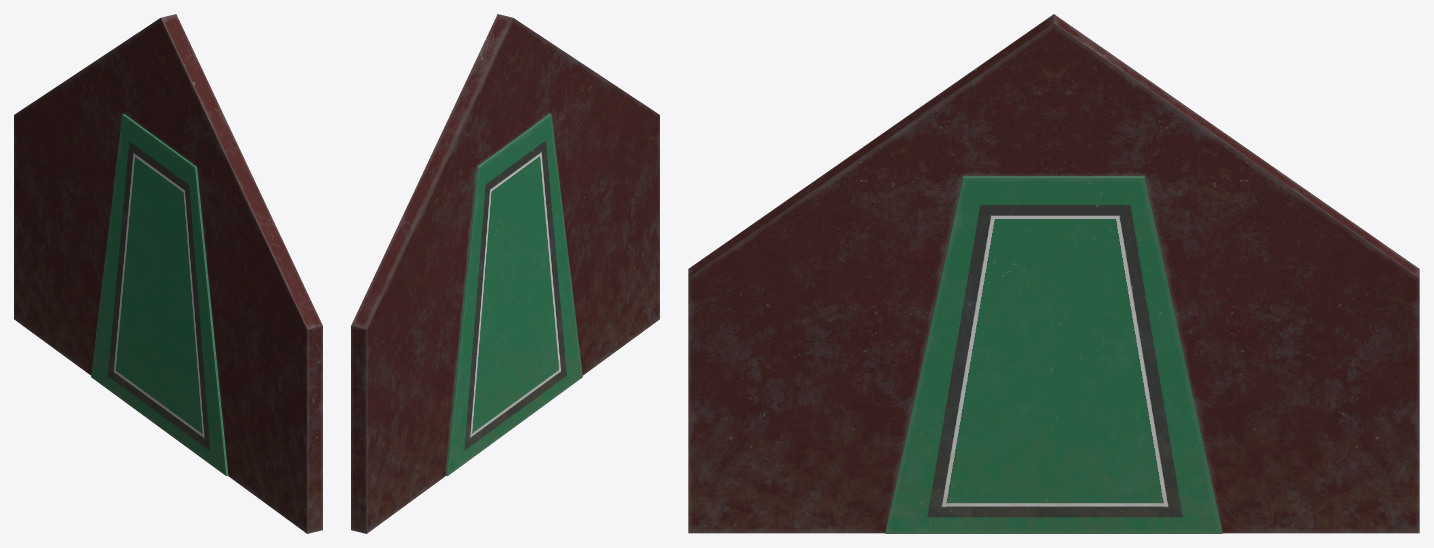
File: SM_Daegong01f.fbx
The picture shows the model from 3 angles, left to right: view 1: azimuth 30°, elevation 25°; view 2: azimuth 150°, elevation 25°; view 3: azimuth 270°, elevation 25°; orthographic projection. The views are drawn at different scales.
Visible parts, largest first — view 1: SM_Daegong01f; view 2: SM_Daegong01f; view 3: SM_Daegong01f.
Part boxes in pixels (x1,y1,x2,y2): SM_Daegong01f: [14, 14, 322, 533]; SM_Daegong01f: [351, 14, 659, 533]; SM_Daegong01f: [688, 14, 1419, 533].
Bounding box in the file's own units: 5 × 130 × 100.
1 material, 1 textured.
